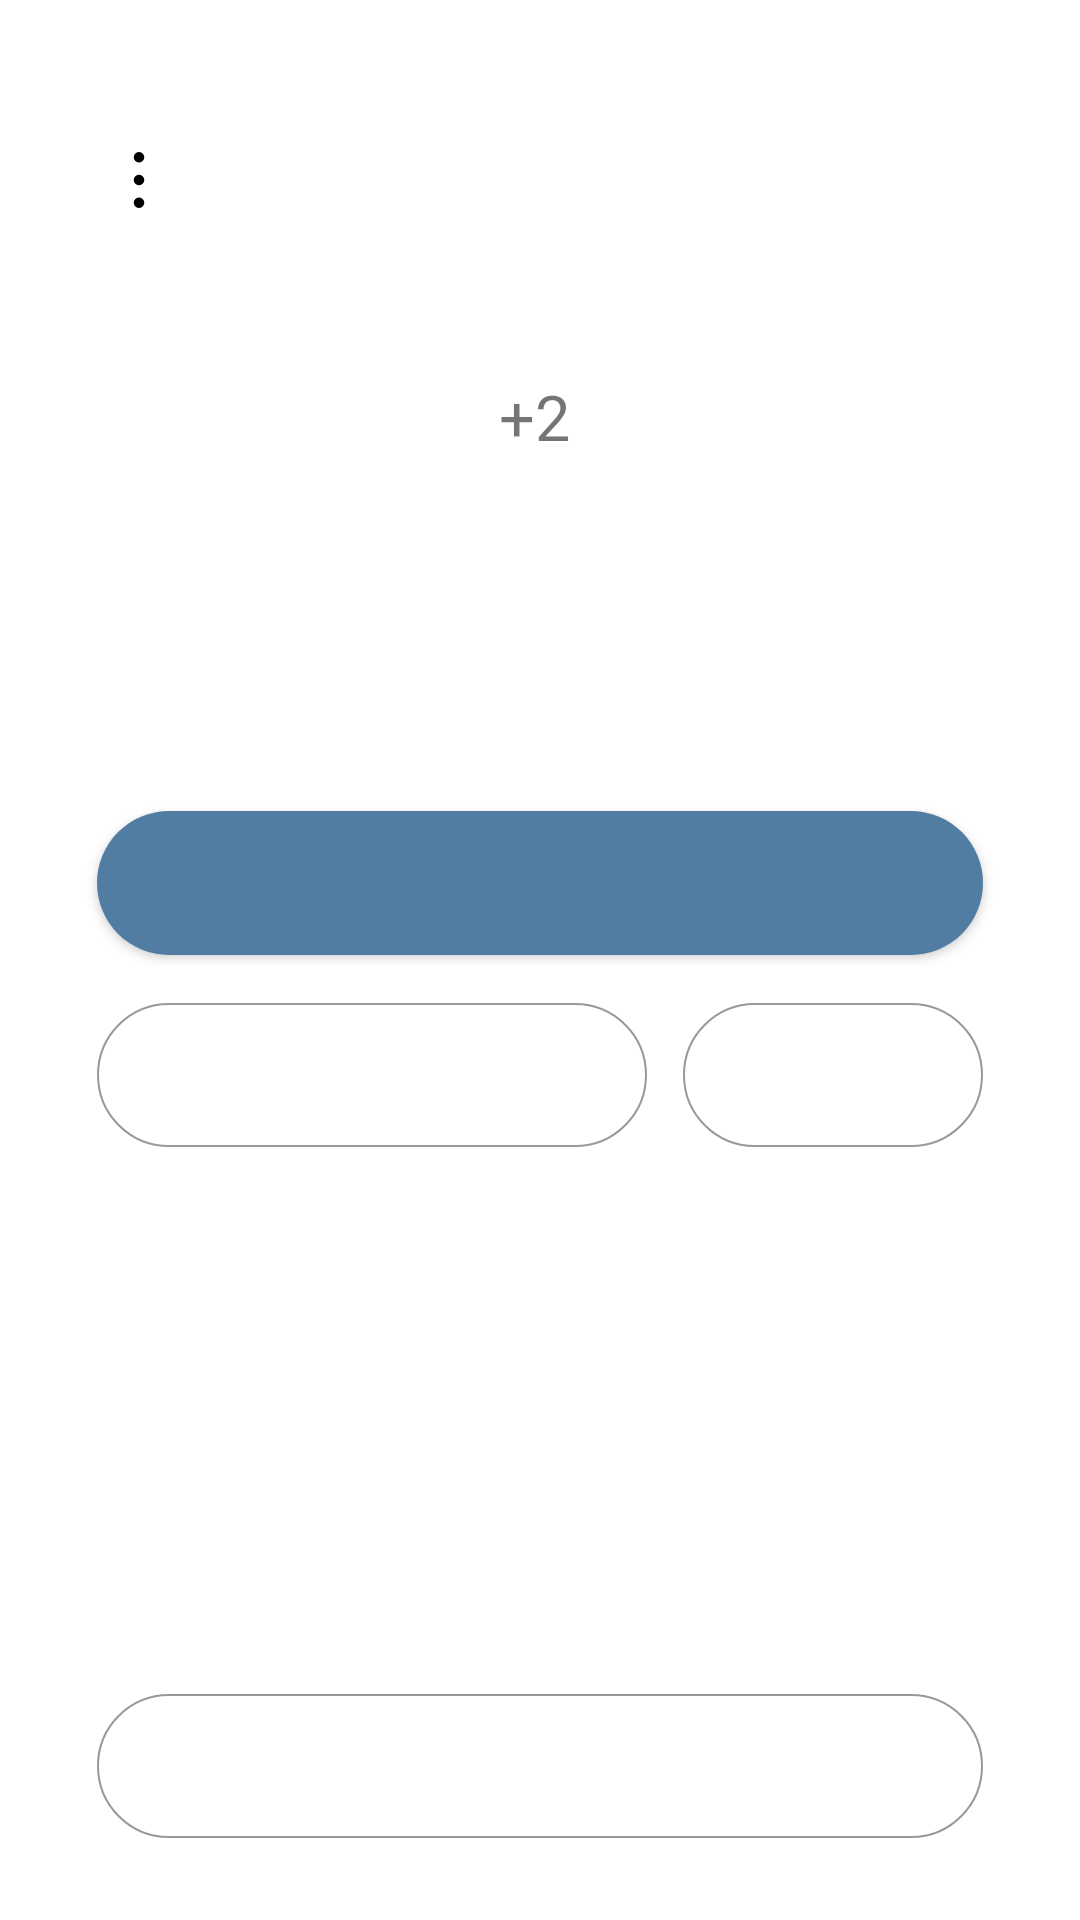

Point at icon controls on the screen. Image size 1080×1920, points as (x,y).
dots: (139,180)
